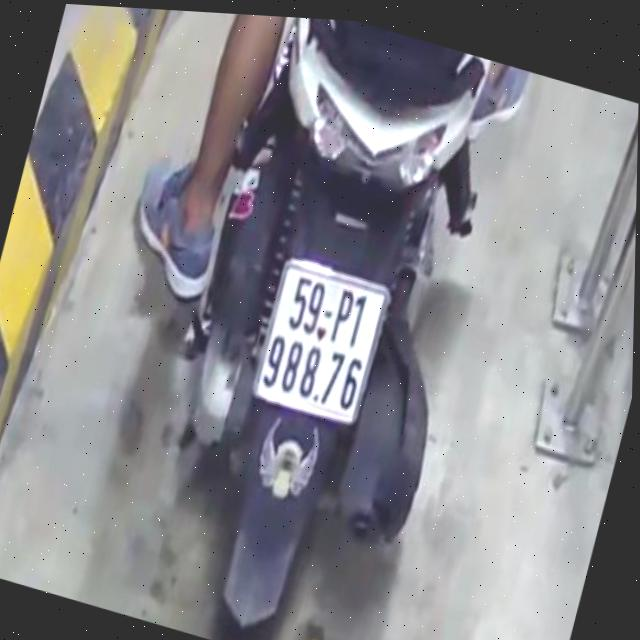motorcycle: (109, 7, 537, 640)
plate: (240, 249, 391, 433)
